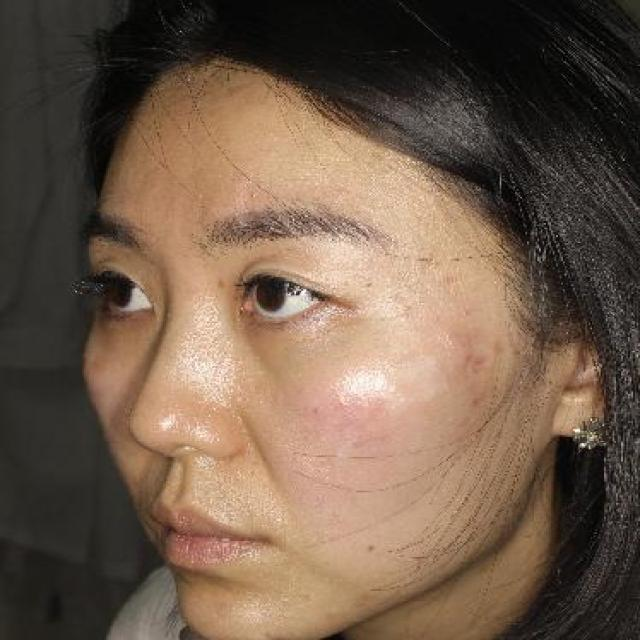dark spot: (465, 349, 493, 369), (456, 348, 478, 370), (469, 391, 488, 406)
whiteheads: (402, 304, 416, 316), (364, 280, 375, 289), (340, 280, 352, 286)
